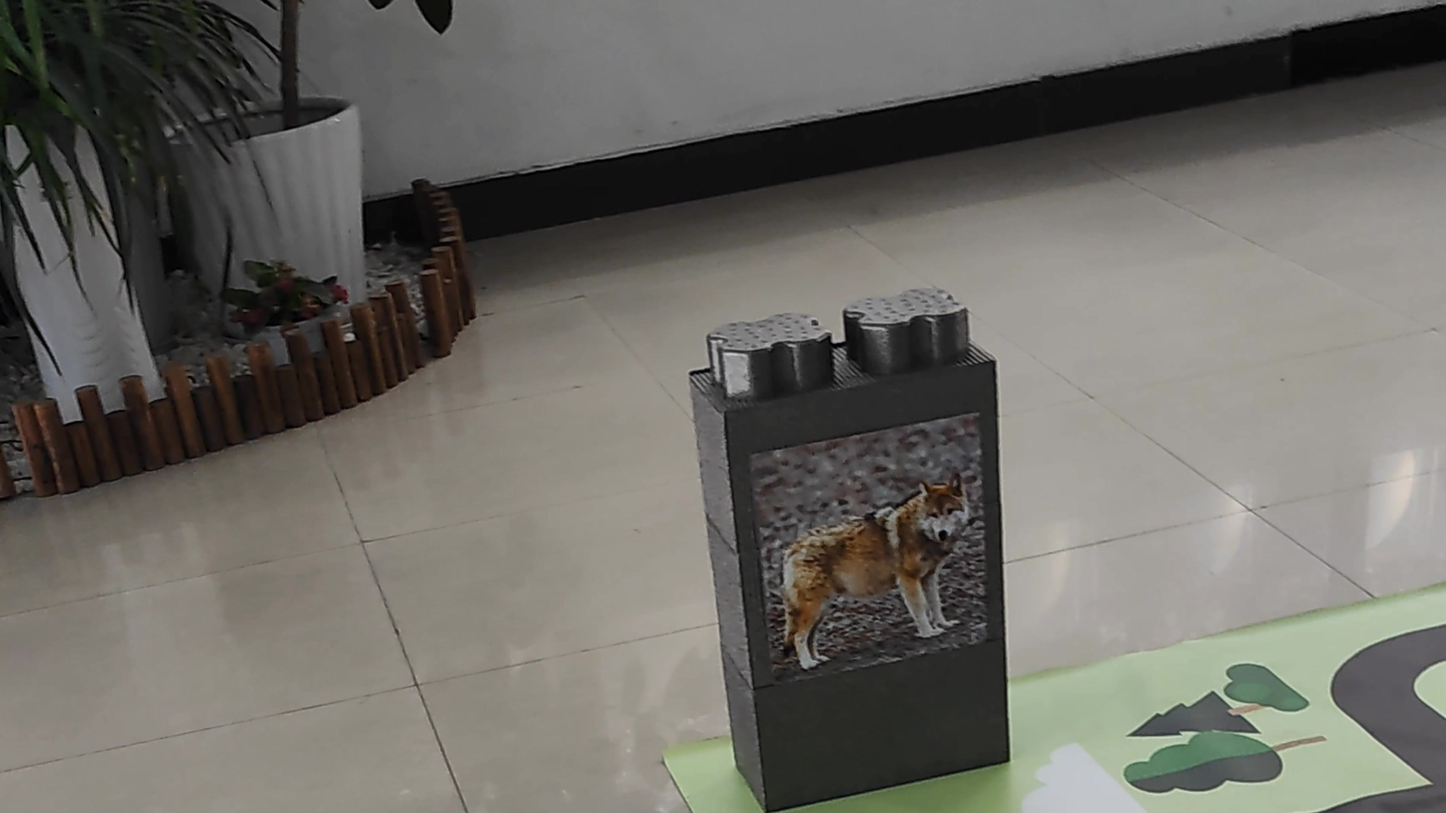wolf: (760, 435, 1003, 661)
